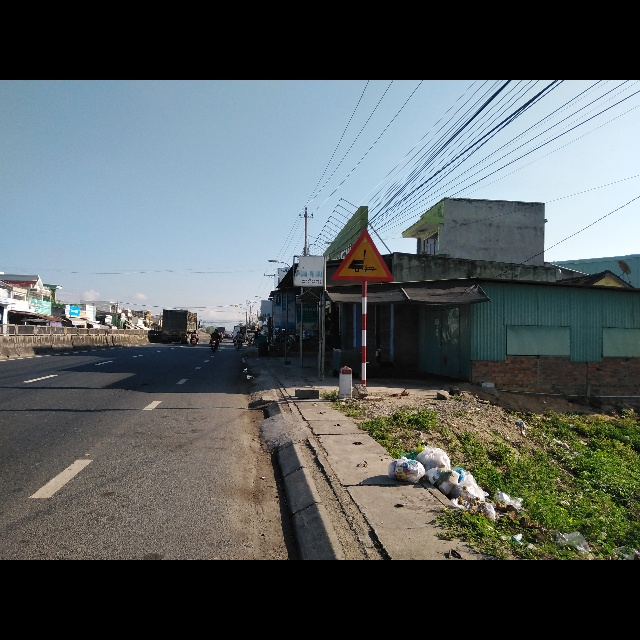Đoạn đường hay xảy ra tai nạn: (332, 229, 394, 282)
